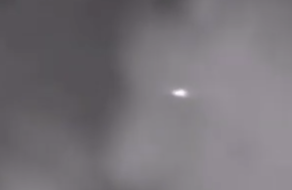Target: (173, 90, 185, 96)
